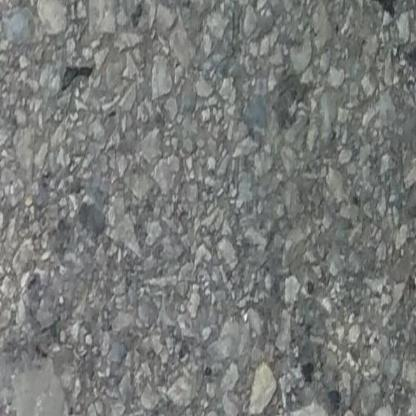Cracks: (353, 0, 416, 17)
